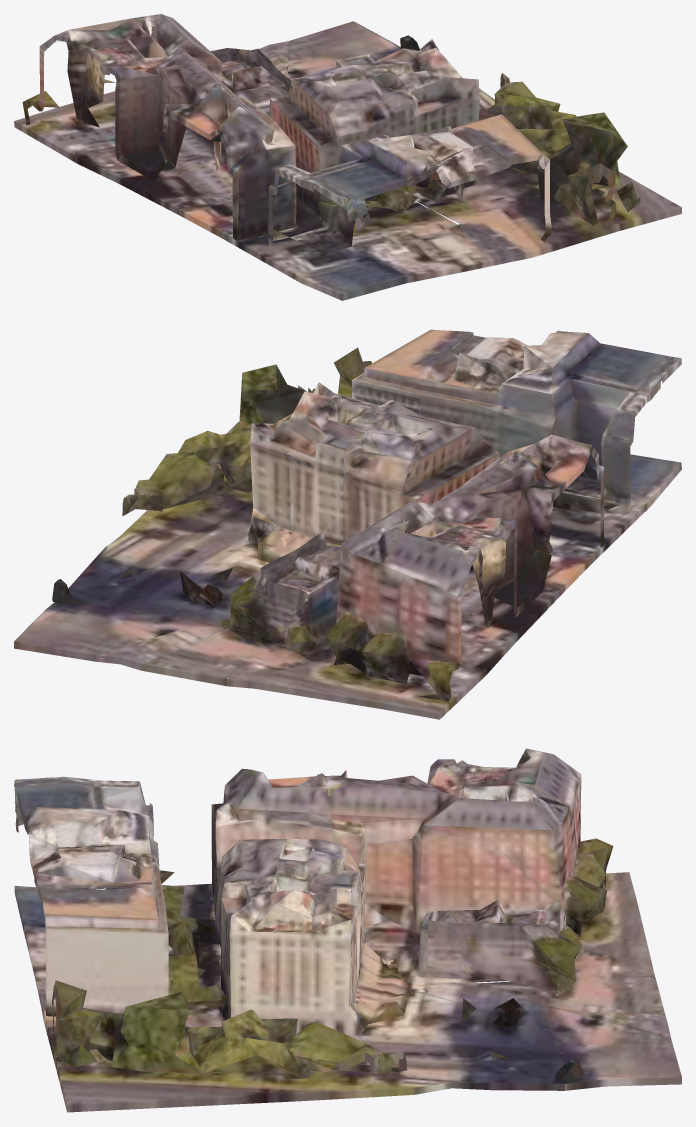
The picture shows the model from 3 angles, top to bottom: view 1: azimuth 30°, elevation 25°; view 2: azimuth 150°, elevation 25°; view 3: azimuth 270°, elevation 25°; orthographic projection. The views are drawn at different scales.
Parts seen in each view (by area): view 1: Mesh_0; view 2: Mesh_0; view 3: Mesh_0.
Boxes of the visible parts, x1,y1,x2,y2 form: Mesh_0: (14,14,681,300); Mesh_0: (14,329,681,719); Mesh_0: (14,748,681,1112).
Bounding box in the file's own units: 133 × 41.06 × 165.
Materials: 2 (2 with a texture image).
